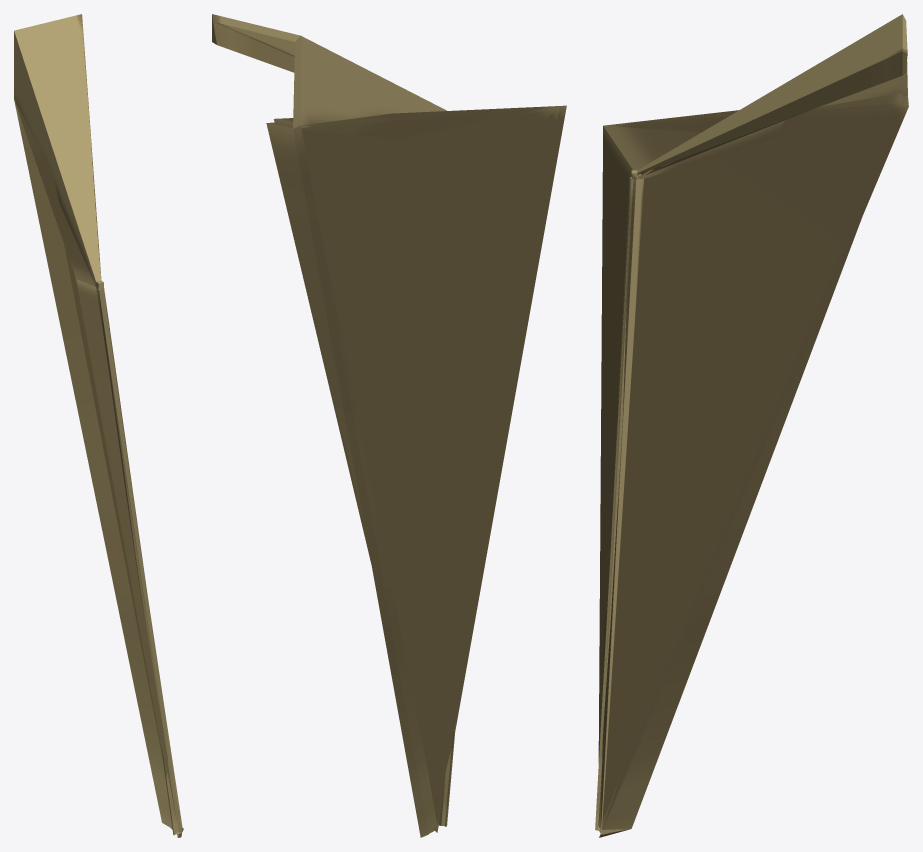
File: crate fragments2.fbx
3 renders of one model, left to right at view 1: azimuth 30°, elevation 25°; view 2: azimuth 150°, elevation 25°; view 3: azimuth 270°, elevation 25°, orthographic. The views are drawn at different scales.
Visible parts, largest first — view 1: CrateFragment2; view 2: CrateFragment2; view 3: CrateFragment2.
Boxes of the visible parts, bbox=[...] form: CrateFragment2: bbox=[14, 14, 183, 837]; CrateFragment2: bbox=[212, 14, 566, 837]; CrateFragment2: bbox=[595, 14, 908, 837].
Bounding box in the file's own units: 71.07 × 350 × 124.
